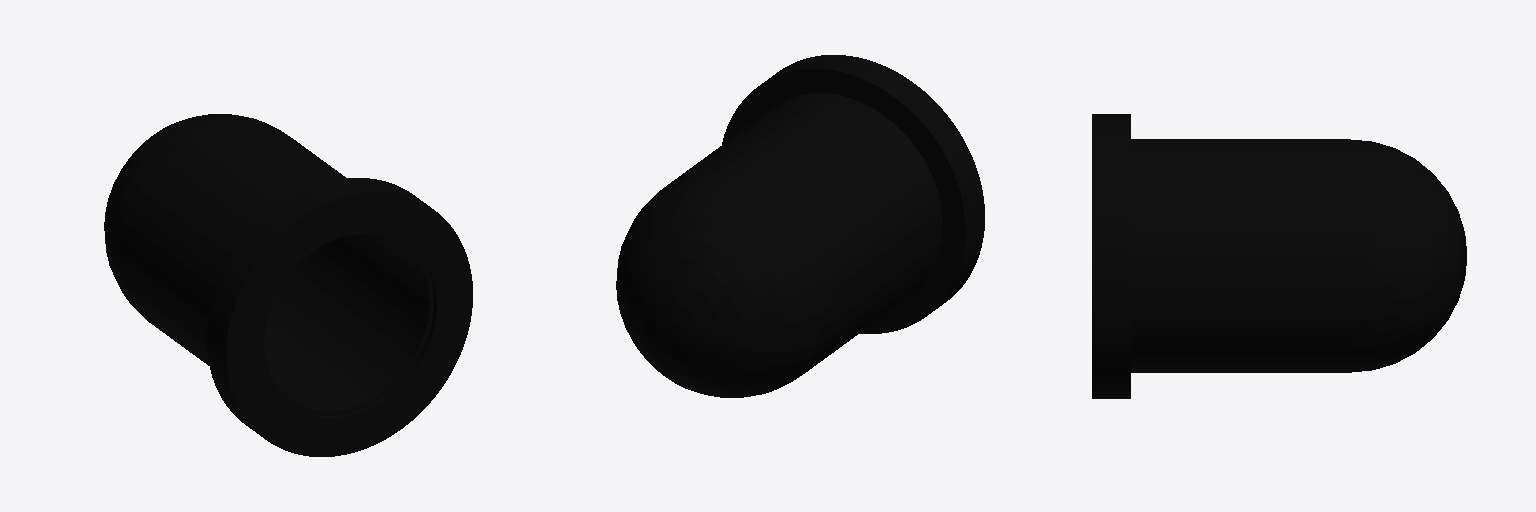
The model's file is tunnel2.obj.
3 renders of one model, left to right at view 1: azimuth 30°, elevation 25°; view 2: azimuth 150°, elevation 25°; view 3: azimuth 270°, elevation 25°, orthographic.
Visible parts, largest first — view 1: Sphere, Cylinder.001_Cylinder.003; view 2: Sphere, Cylinder.001_Cylinder.003; view 3: Sphere, Cylinder.001_Cylinder.003.
Boxes of the visible parts, box(x1,y1,x2,y2) form: Sphere: box(104, 114, 433, 415); Cylinder.001_Cylinder.003: box(207, 178, 472, 456); Sphere: box(616, 93, 942, 397); Cylinder.001_Cylinder.003: box(722, 55, 984, 333); Sphere: box(1131, 139, 1466, 372); Cylinder.001_Cylinder.003: box(1092, 114, 1130, 398).
Size of the model in its own units: 2.44 by 2.44 by 3.22.